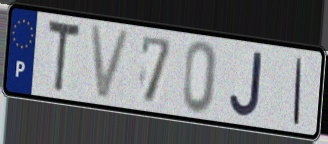0: (180, 39, 220, 117)
7: (138, 33, 174, 107)
I: (291, 55, 305, 128)
J: (228, 50, 264, 120)
T: (45, 16, 82, 97)
V: (87, 22, 134, 103)
